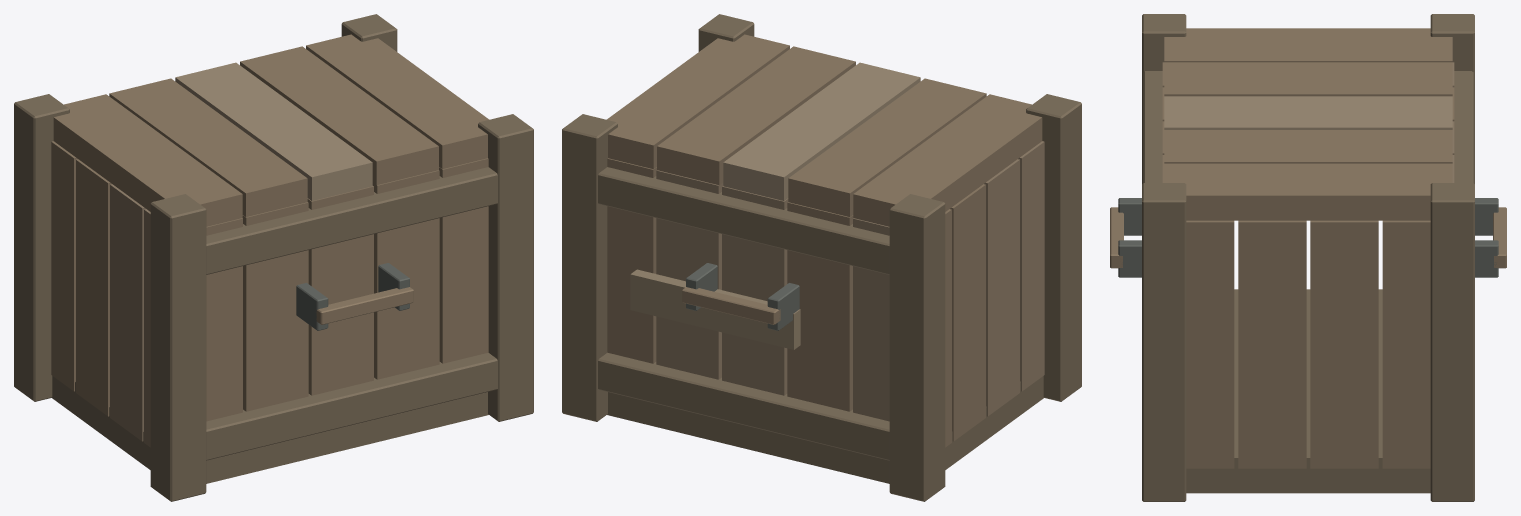
Rendered from env_crate_v10_carry_handles.glb.
3 views of the same model, side by side, from view 1: azimuth 30°, elevation 25°; view 2: azimuth 150°, elevation 25°; view 3: azimuth 270°, elevation 25° (orthographic). The views are drawn at different scales.
Visible parts, largest first — view 1: material_0, material_2, material_1, material_5, material_3; view 2: material_2, material_0, material_5, material_1, material_6, material_3; view 3: material_0, material_2, material_1, material_3.
Part boxes in pixels (bbox=[...]): material_0: bbox=[51, 34, 489, 460]; material_2: bbox=[14, 14, 533, 501]; material_1: bbox=[175, 62, 372, 200]; material_5: bbox=[110, 184, 150, 447]; material_3: bbox=[296, 263, 409, 330]; material_2: bbox=[562, 14, 1081, 501]; material_0: bbox=[606, 34, 1042, 450]; material_5: bbox=[656, 141, 1044, 460]; material_1: bbox=[723, 62, 920, 200]; material_6: bbox=[630, 269, 800, 349]; material_3: bbox=[686, 263, 799, 330]; material_0: bbox=[1110, 28, 1506, 468]; material_2: bbox=[1142, 14, 1474, 501]; material_1: bbox=[1164, 96, 1452, 129]; material_3: bbox=[1118, 198, 1498, 277].
Bounding box in the file's own units: 0.8 × 0.6 × 0.715.
